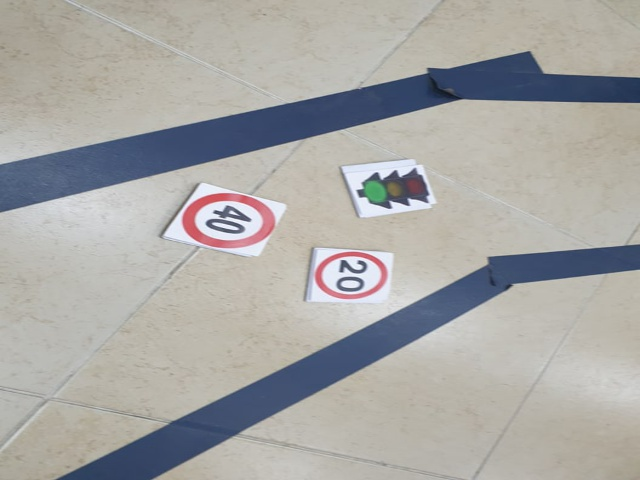Green: (351, 169, 432, 211)
Limit 20: (321, 251, 388, 297)
Limit 40: (183, 194, 276, 251)
